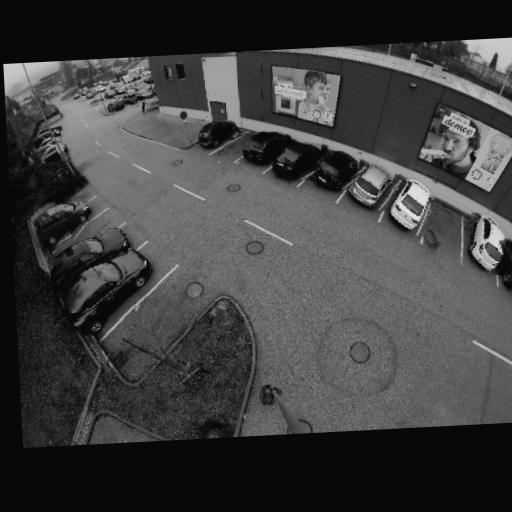busy: (63, 249, 160, 323), (53, 228, 131, 283), (385, 174, 437, 238), (460, 213, 512, 277), (345, 159, 396, 212), (32, 196, 90, 242), (309, 144, 362, 192), (271, 137, 323, 182), (239, 130, 287, 165), (197, 120, 241, 151), (36, 141, 71, 164), (501, 237, 512, 293), (106, 94, 132, 112), (142, 96, 163, 113), (104, 89, 118, 100)
free: (136, 293, 197, 339), (425, 209, 463, 246), (70, 219, 109, 242), (223, 135, 251, 159)
